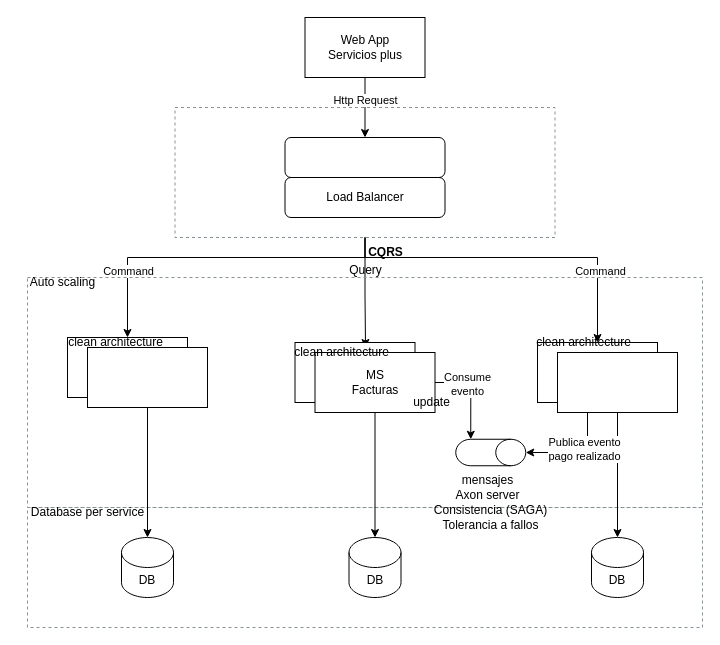
Some shapes in this 720 by 645 pixel diagram are drawn without their labels. Here are the shapes that lost their labels. From the top down, the box of each, then its label:
(284, 136, 445, 178): ApiGateway
(174, 106, 555, 238): spring cloud
(86, 346, 208, 408): MS Solicitudes
(26, 276, 702, 508): Discovery Server Eureka
(556, 352, 678, 412): MS Pagos
